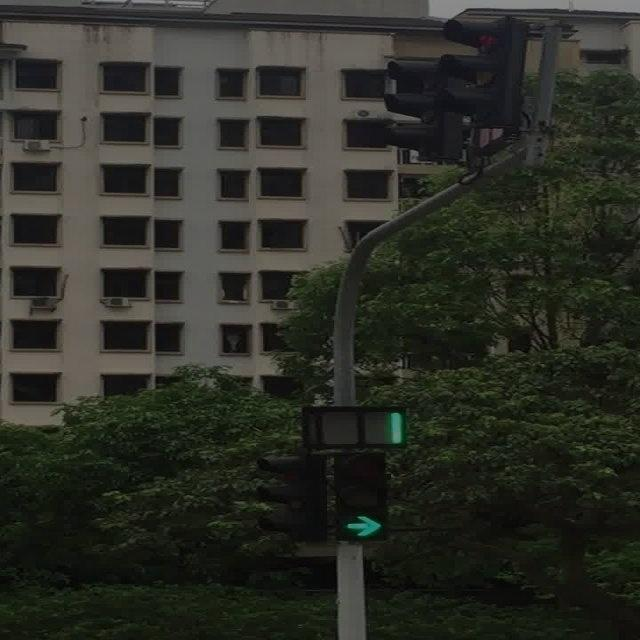Green: (333, 452, 388, 542)
